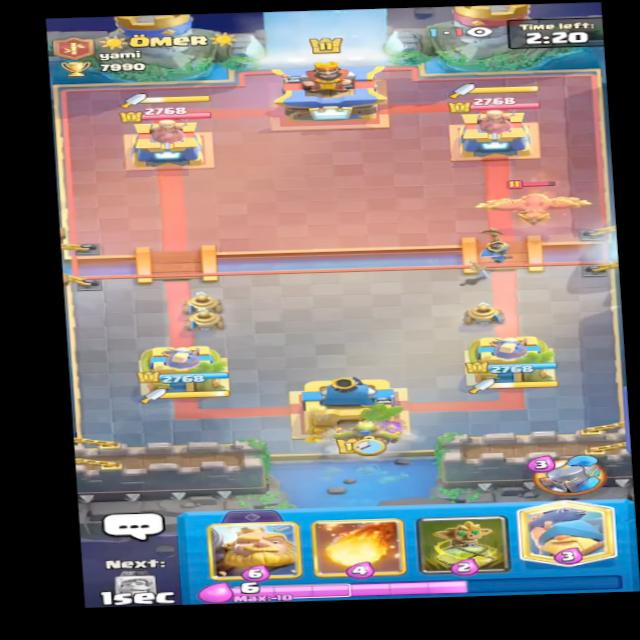phoenix: (475, 175, 595, 228)
